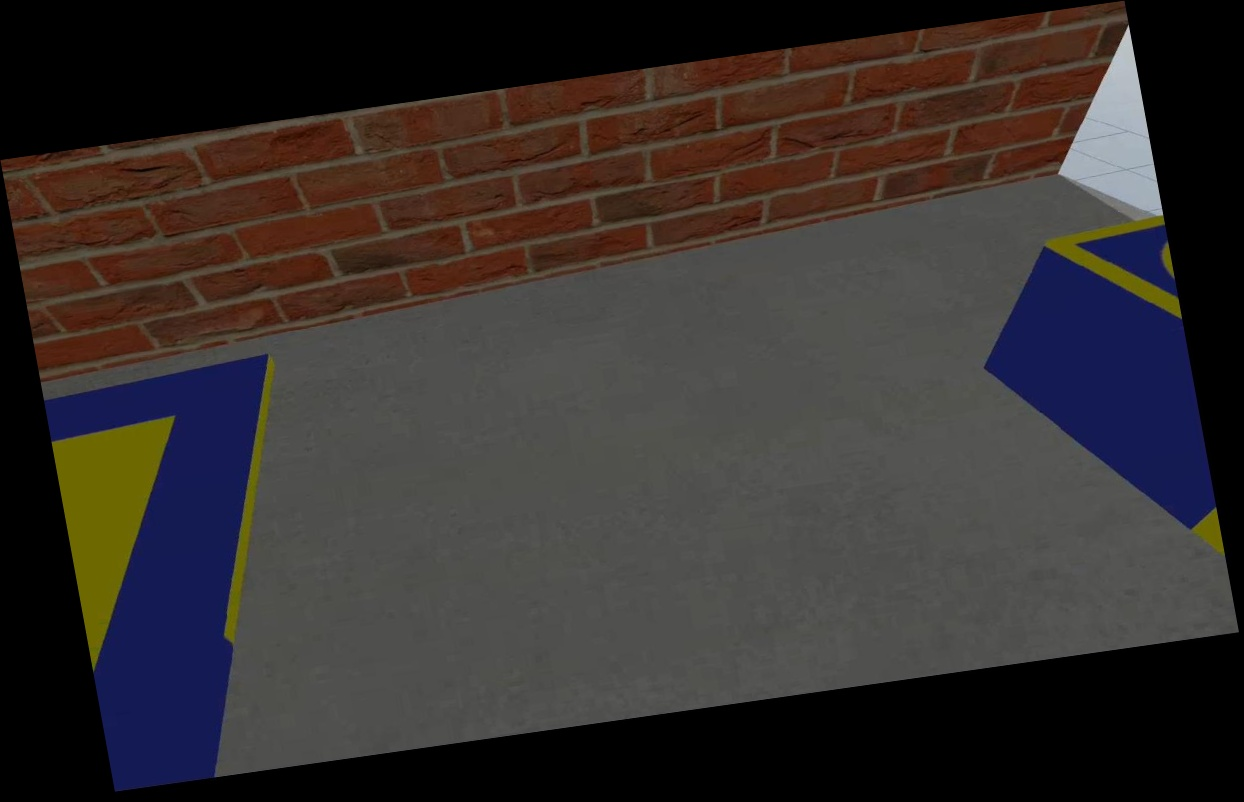large_base: (41, 352, 344, 787)
small_base: (1036, 216, 1187, 348)
